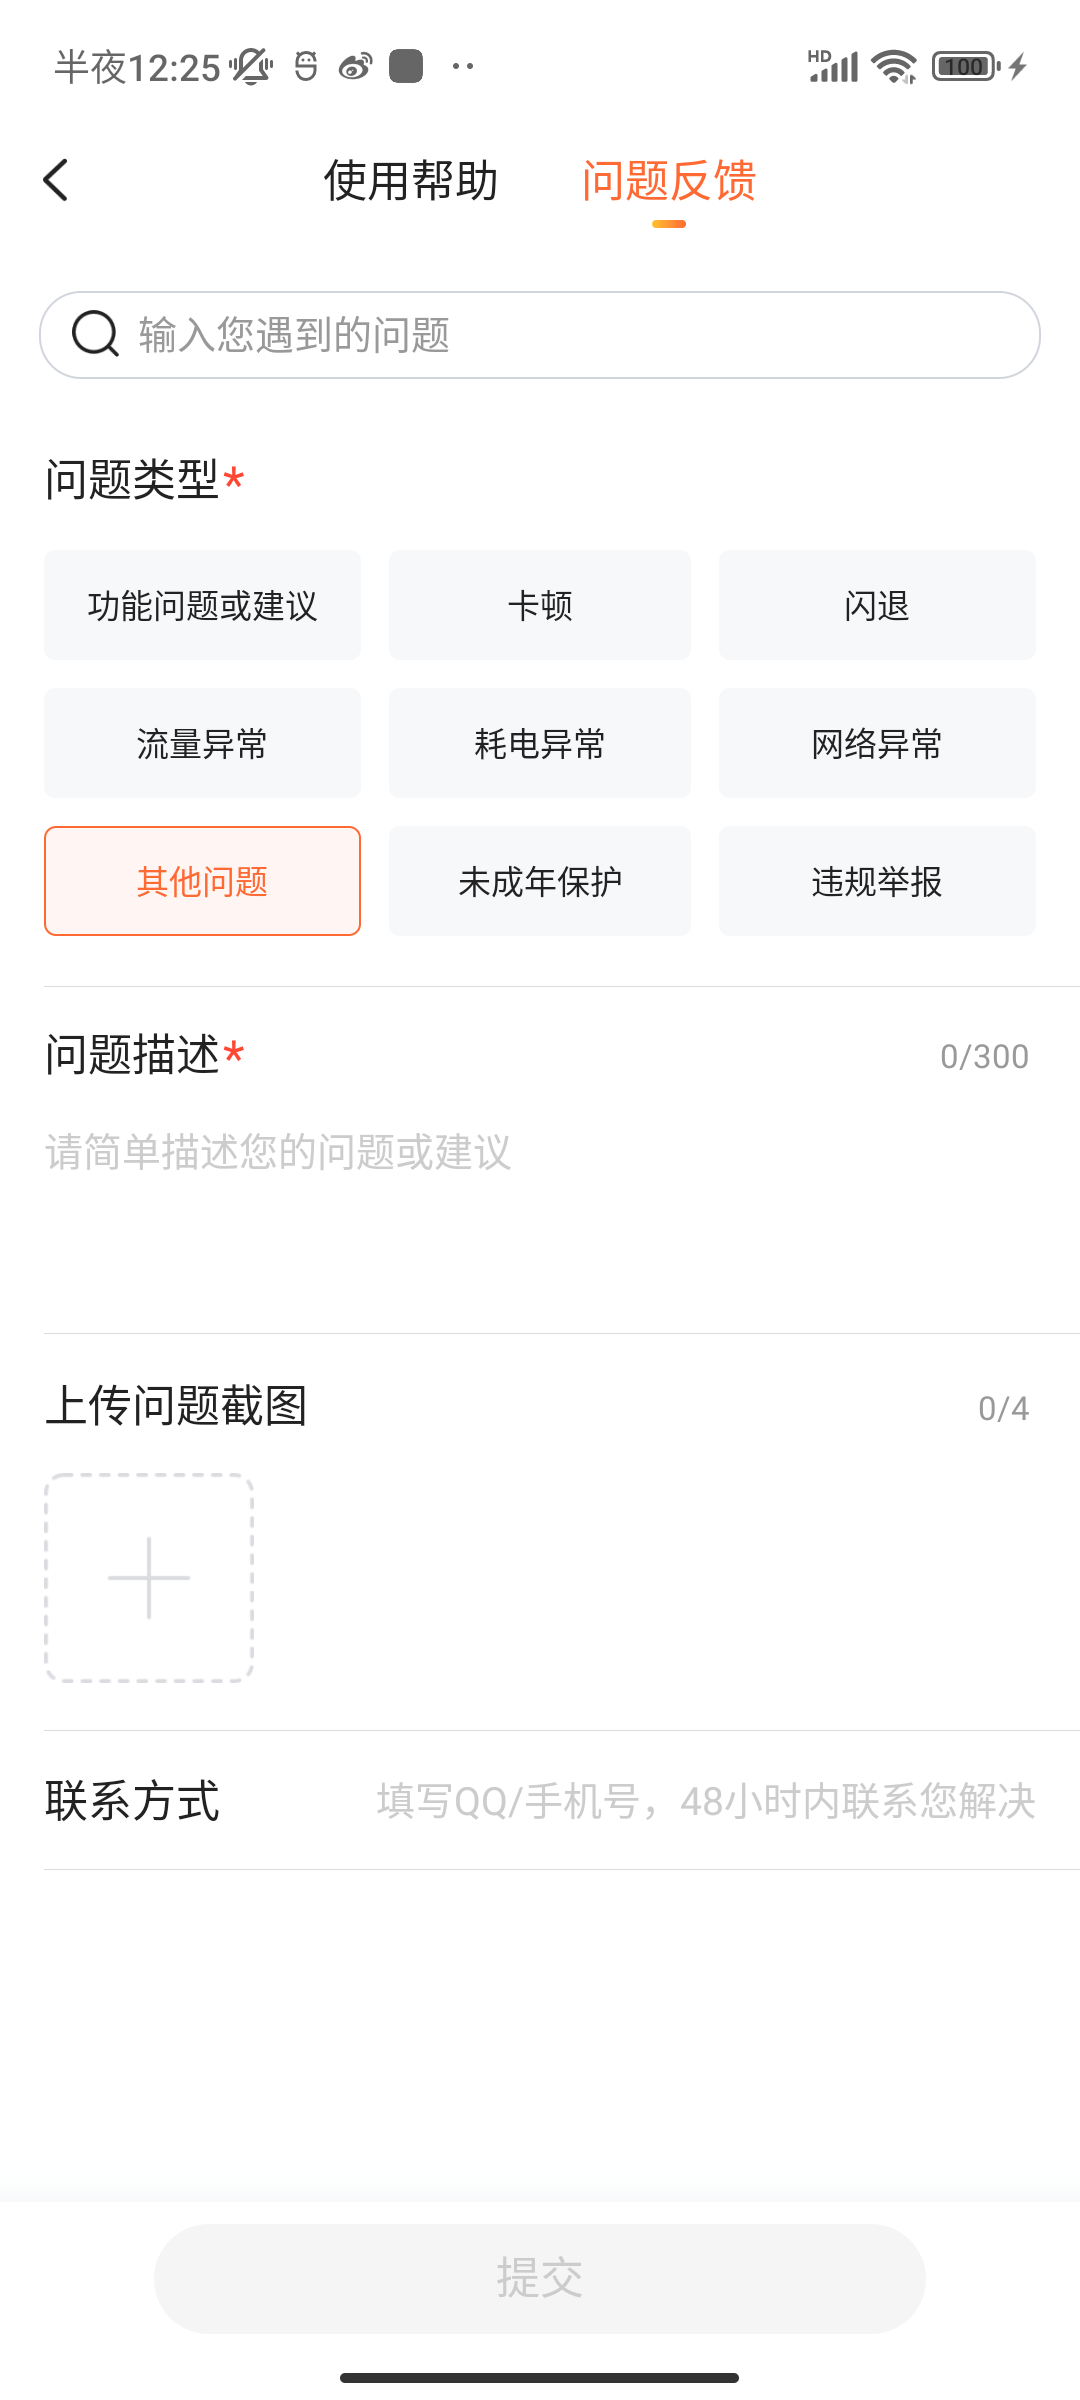ui_group: (24, 1012, 1057, 1209), (31, 272, 1069, 395), (17, 1745, 1065, 1840)
